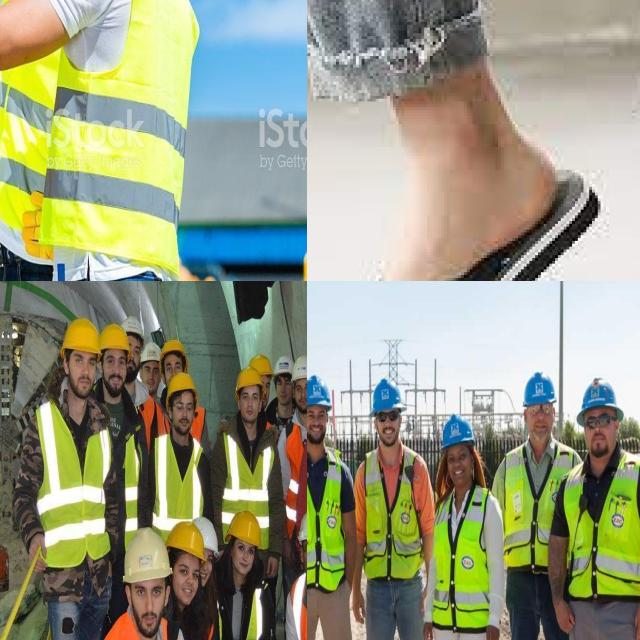face_nomask: (584, 407, 618, 457), (129, 579, 161, 629), (170, 553, 200, 605), (68, 355, 98, 401), (528, 404, 554, 450), (446, 450, 474, 489), (234, 387, 259, 430), (375, 412, 405, 447), (227, 537, 251, 580), (170, 395, 192, 438), (103, 350, 126, 390), (307, 408, 327, 446), (139, 360, 162, 388), (274, 375, 293, 406), (162, 359, 185, 381), (294, 377, 307, 414), (301, 536, 307, 584)
glasses: (301, 537, 307, 560)
hand_noglove: (550, 599, 578, 638), (352, 588, 369, 625), (631, 597, 640, 640), (421, 621, 438, 640), (486, 622, 500, 640)
head_helmet: (123, 529, 172, 582), (578, 373, 625, 414), (167, 520, 208, 560), (228, 510, 263, 546), (62, 319, 100, 352), (524, 372, 558, 406), (371, 382, 405, 416), (440, 414, 474, 448), (97, 320, 131, 351), (307, 373, 334, 407), (164, 374, 199, 399), (195, 518, 221, 550), (234, 369, 264, 392), (161, 339, 186, 361), (248, 354, 271, 374), (121, 317, 143, 336), (140, 342, 162, 361), (272, 355, 294, 373), (291, 355, 307, 378), (300, 507, 307, 538)
person: (48, 0, 192, 281), (562, 382, 640, 640), (502, 373, 575, 640), (43, 324, 104, 640), (355, 380, 428, 640), (0, 0, 79, 232), (431, 413, 496, 640), (79, 528, 209, 640), (307, 375, 351, 640), (220, 365, 278, 535), (152, 376, 216, 516), (169, 512, 222, 640), (219, 512, 272, 640), (103, 322, 131, 455), (132, 327, 164, 422)
vest: (66, 0, 189, 278), (39, 399, 114, 562), (566, 454, 640, 594), (0, 0, 44, 226), (504, 442, 578, 569), (434, 482, 489, 628), (364, 447, 418, 576), (307, 447, 345, 587), (150, 444, 203, 528), (215, 580, 276, 640), (225, 438, 270, 512), (120, 432, 158, 512)
